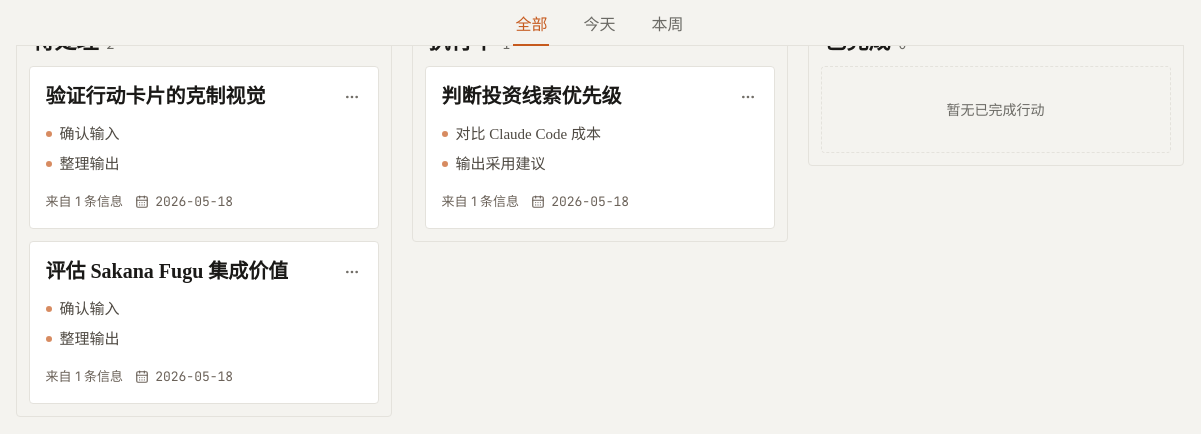
Scenario: ActionsView v19 visual constraints › clears the board cache and refetches after action status mutation
Expected: the button "验证行动卡片的克制视觉" is shown, [28, 66, 378, 229]
What coordinates should you click on to do the following:
click the 1st button named "更多行动操作"
I would click on:
 (352, 97)
Its box is [338, 83, 366, 111].
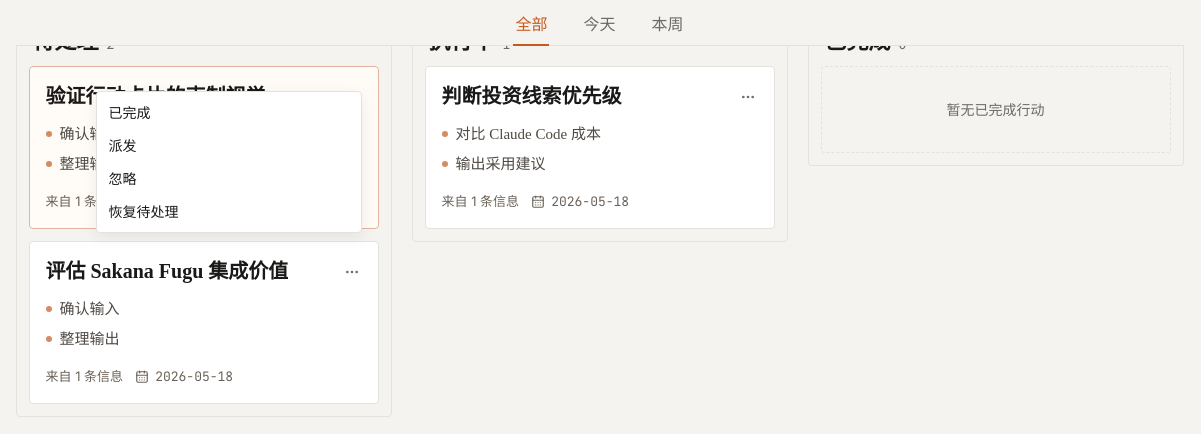
What coordinates should you click on to do the following:
click the button "已完成"
I would click on:
 (130, 112)
Its box is [96, 96, 360, 129].
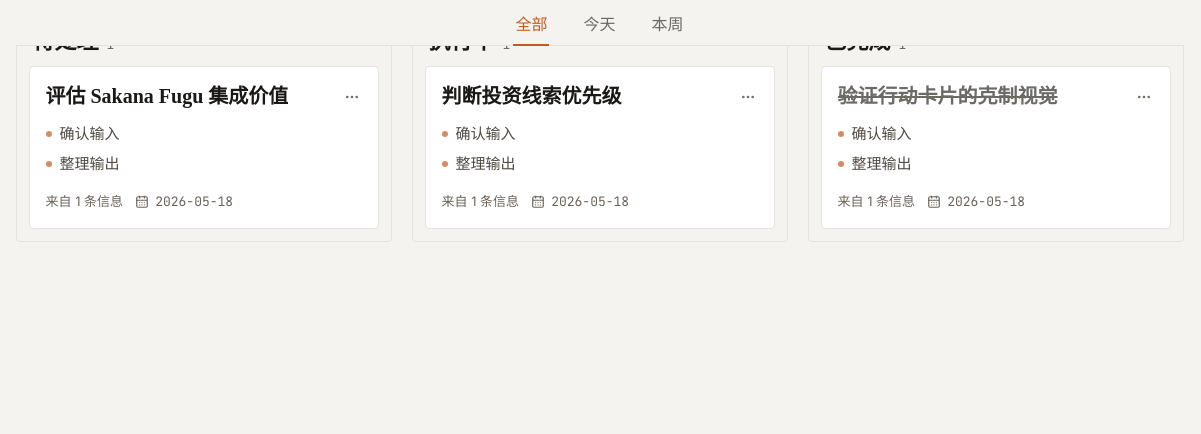
Now the heading "验证行动卡片的克制视觉" is shown, box [838, 83, 1058, 110]
Now the button "验证行动卡片的克制视觉" is shown, box [820, 66, 1170, 229]
